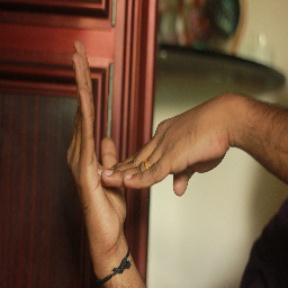Z: (54, 39, 231, 259)
